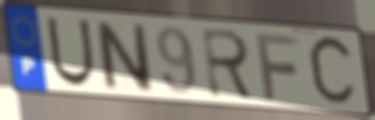9: (154, 24, 199, 97)
C: (305, 32, 359, 111)
F: (253, 30, 302, 103)
N: (92, 19, 157, 95)
R: (200, 26, 258, 103)
U: (44, 15, 97, 89)
